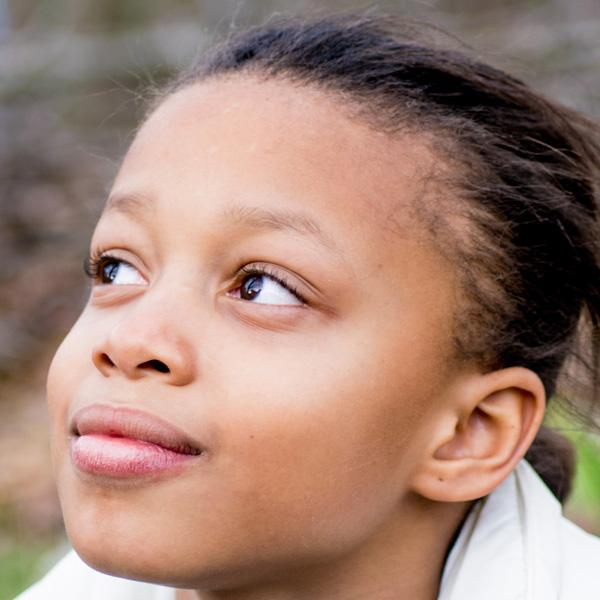Eyes: (218, 250, 326, 326), (79, 237, 152, 304)
